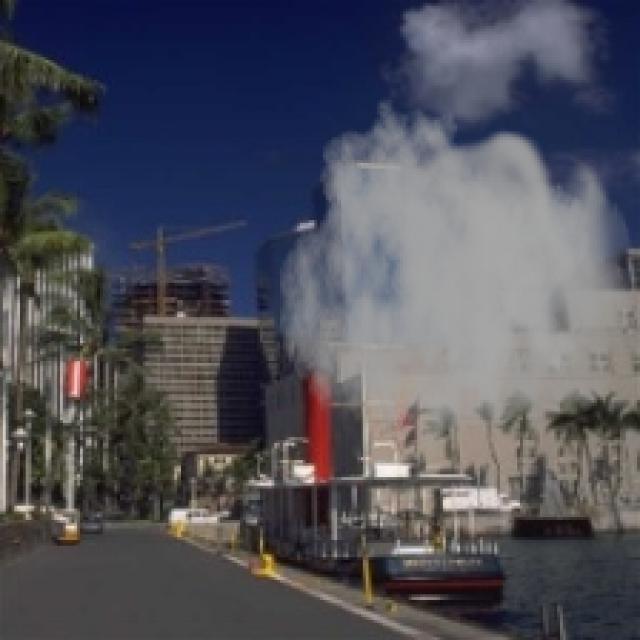smoke: (277, 97, 634, 480)
